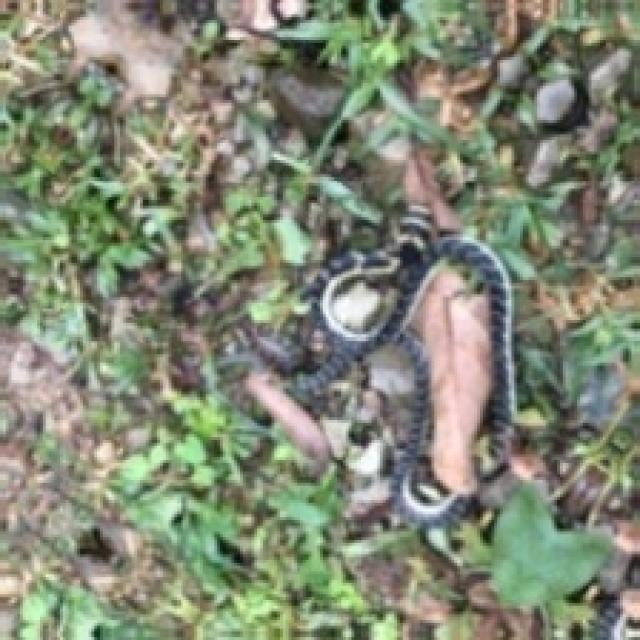king cobra: (294, 206, 511, 526)
